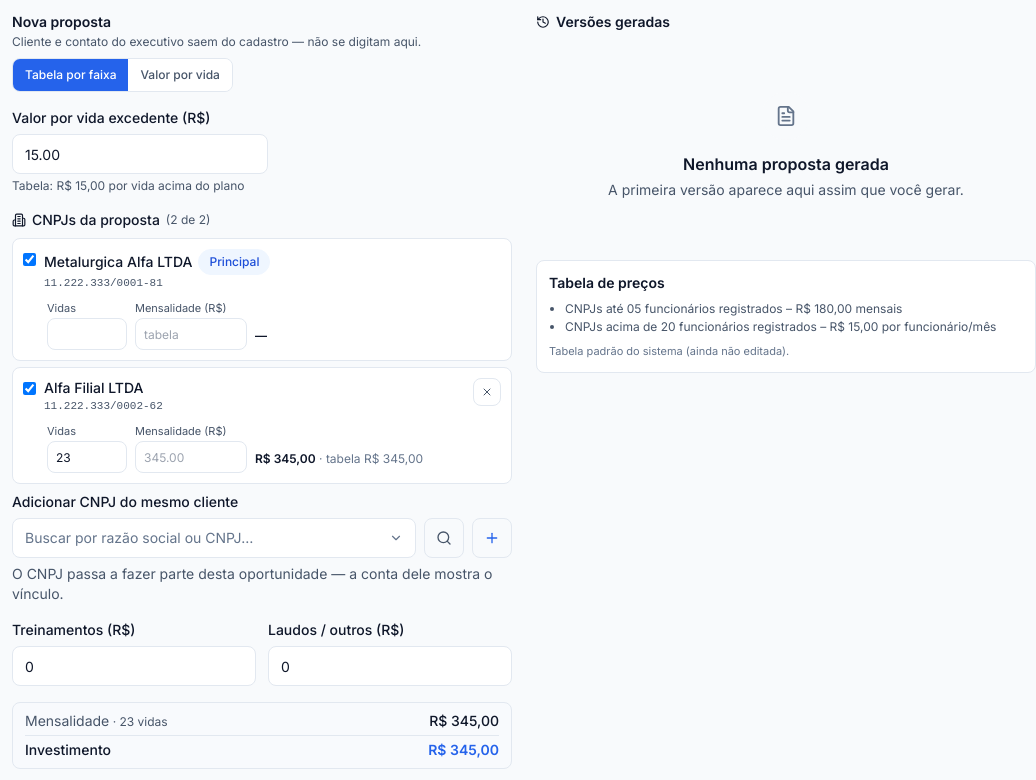
Test: AbaProposta — vários CNPJs › tabela sugere o valor e a soma aparece antes de gerar
The image size is (1036, 780).
In the number field named "Vidas de Metalurgica Alfa LTDA": (87, 334) x1=47 y1=318 x2=127 y2=350, type "4"
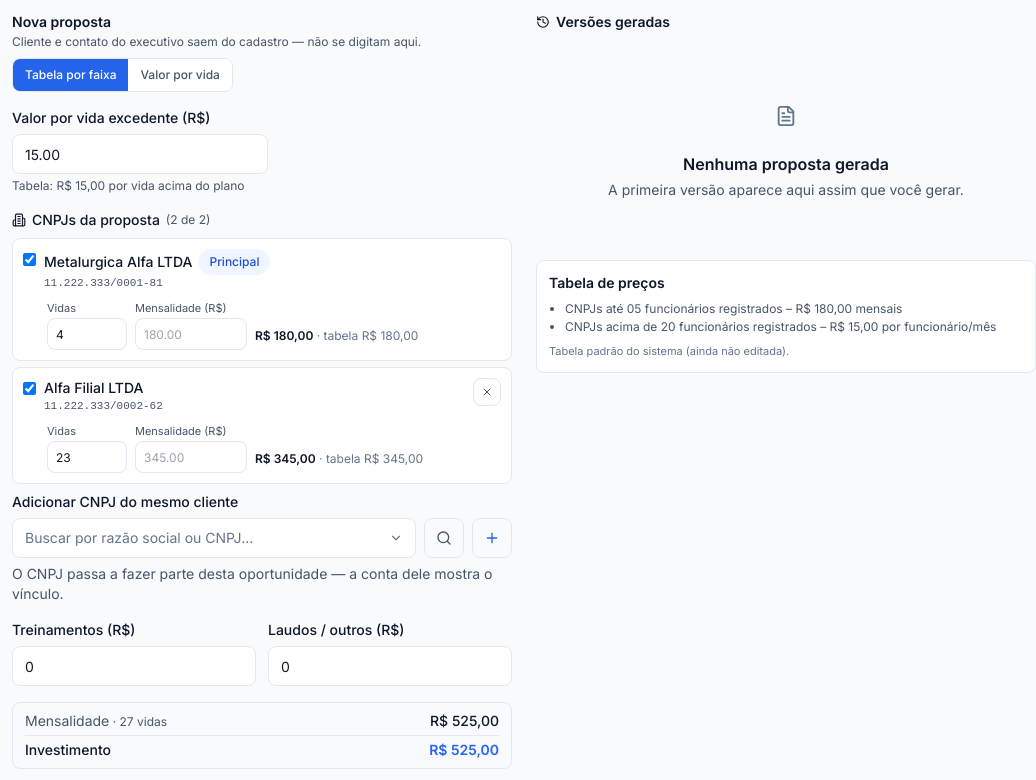
Expected: the number field named "Vidas de Alfa Filial LTDA" holds "23", x1=47 y1=441 x2=127 y2=473
Result: the text with test id "mensal-c1" shows "180,00" at x1=255 y1=328 x2=313 y2=343
Result: the text with test id "calc-mensalidade" shows "525,00" at x1=430 y1=712 x2=499 y2=729
